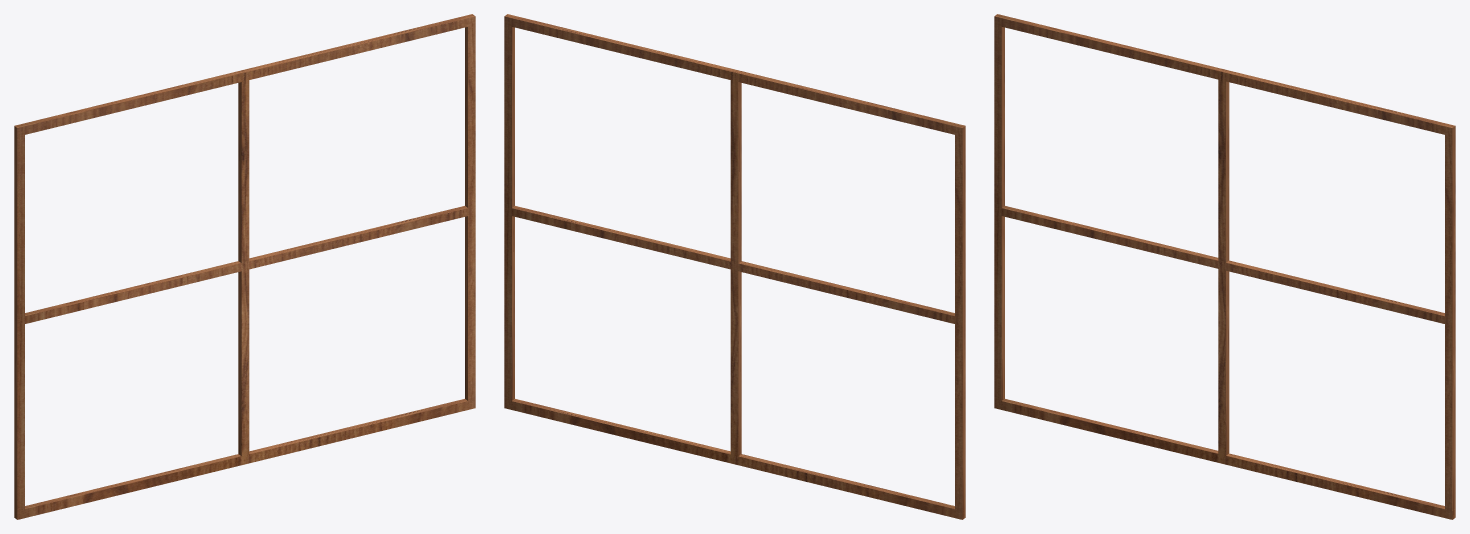
File: Normal_Half_Colonial.obj
3 views of the same model, side by side, from view 1: azimuth 30°, elevation 25°; view 2: azimuth 150°, elevation 25°; view 3: azimuth 330°, elevation 25° (orthographic).
Visible parts, largest first — view 1: Half_Colonial; view 2: Half_Colonial; view 3: Half_Colonial.
Boxes of the visible parts, x1,y1,x2,y2 form: Half_Colonial: [14, 14, 475, 519]; Half_Colonial: [504, 14, 965, 519]; Half_Colonial: [994, 14, 1455, 519].
Bounding box in the file's own units: 8.47 × 6.92 × 0.1037.
1 material, 1 textured.
